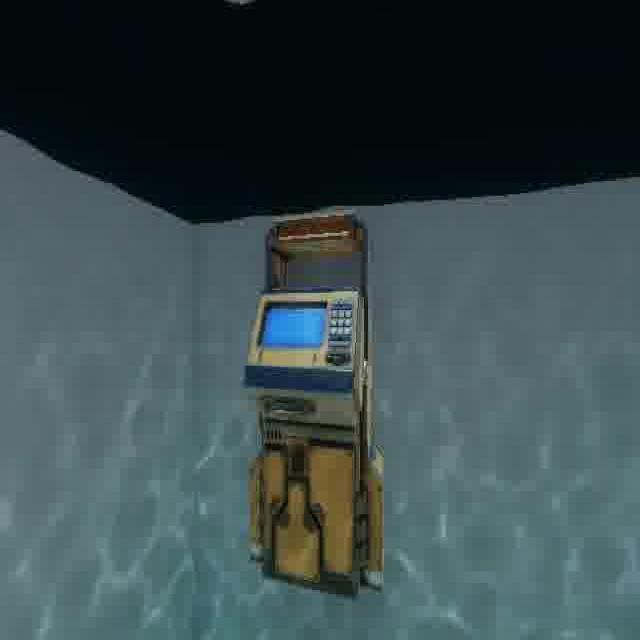Control Panel: (237, 202, 395, 615)
